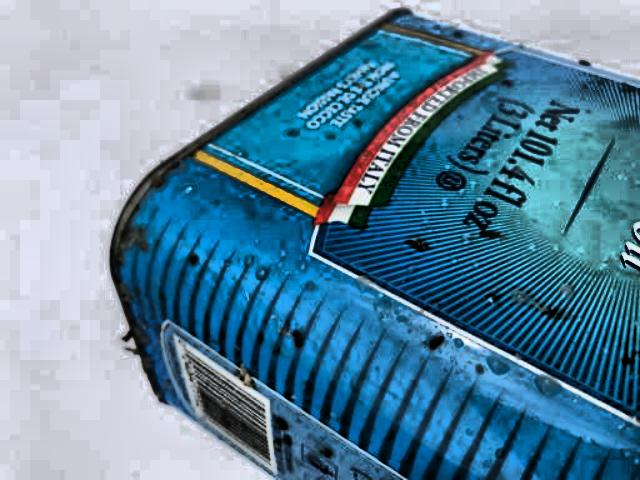Almennt: (94, 8, 640, 480)
